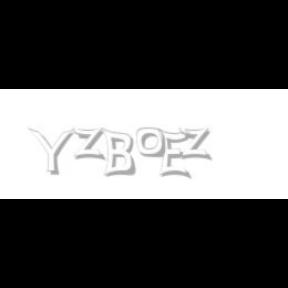B: (102, 128, 136, 178)
E: (158, 128, 190, 180)
Y: (28, 128, 74, 176)
o: (136, 128, 166, 158)
z: (72, 128, 108, 160), (178, 128, 214, 160)
